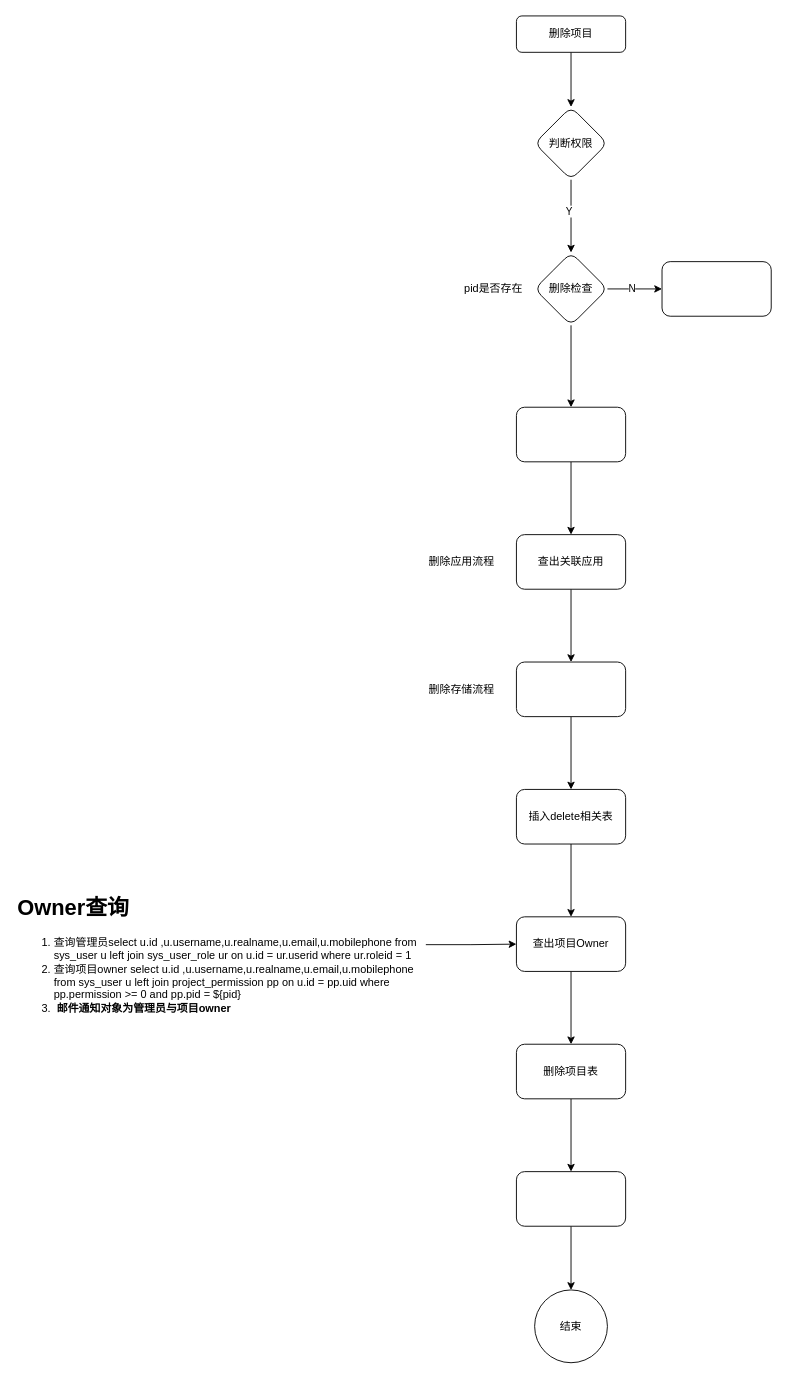
This 787x1379 diagram has some shape labels left out. Each missing label, with the box of its shape:
抛出异常: (661, 261, 771, 316)
查出关联存储: (516, 661, 626, 717)
查出项目实体: (516, 406, 626, 462)
邮件通知: (516, 1171, 626, 1226)
